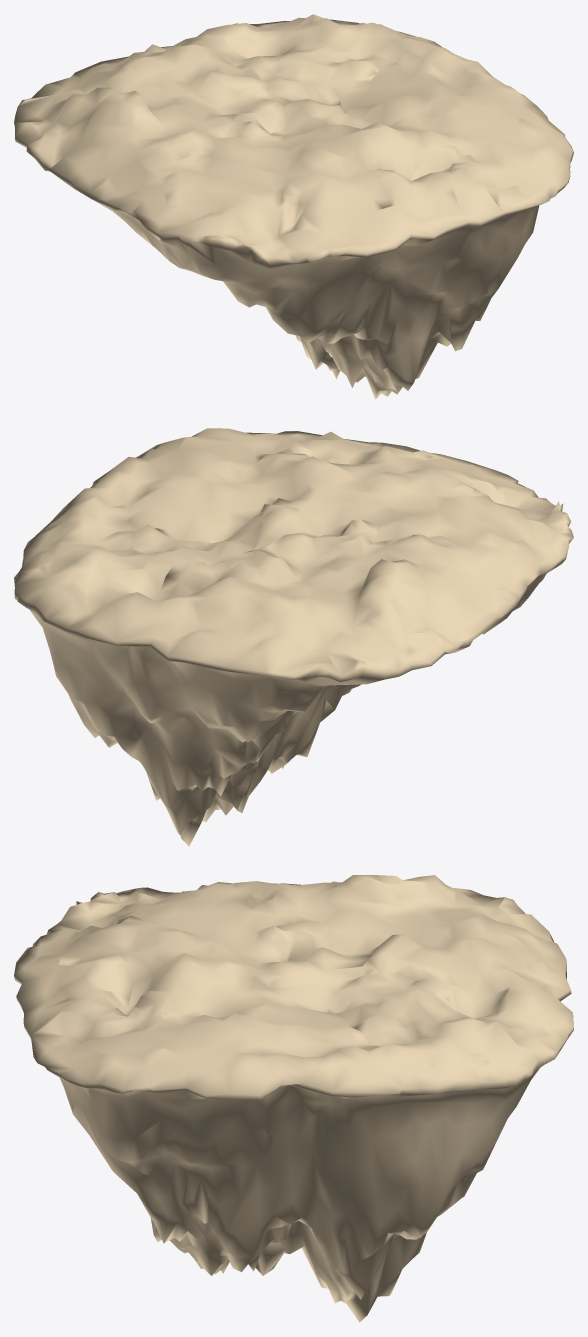
The model's file is island.glb.
3 views of the same model, one above another, from view 1: azimuth 30°, elevation 25°; view 2: azimuth 150°, elevation 25°; view 3: azimuth 270°, elevation 25° (orthographic). The views are drawn at different scales.
Parts seen in each view (by area): view 1: Landscape; view 2: Landscape; view 3: Landscape.
Part boxes in pixels (x1,y1,x2,y2): Landscape: [14, 14, 573, 399]; Landscape: [14, 428, 573, 846]; Landscape: [14, 875, 573, 1322].
Size of the model in its own units: 8.14 by 6.05 by 8.89.
